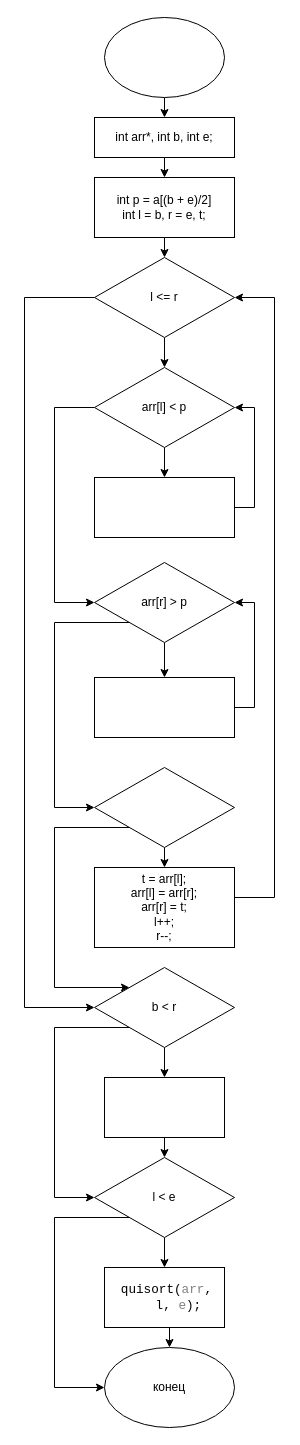
Some shapes in this 300 by 1445 pixel diagram are drawn without their labels. Here are the shapes that lost their labels. From the top down, the box of each, then its label:
(104, 16, 224, 98): Начало
(94, 476, 234, 538): l++
(94, 676, 234, 738): r--
(94, 766, 234, 848): l < r
(104, 1076, 224, 1138): quisort( arr , b , r);
